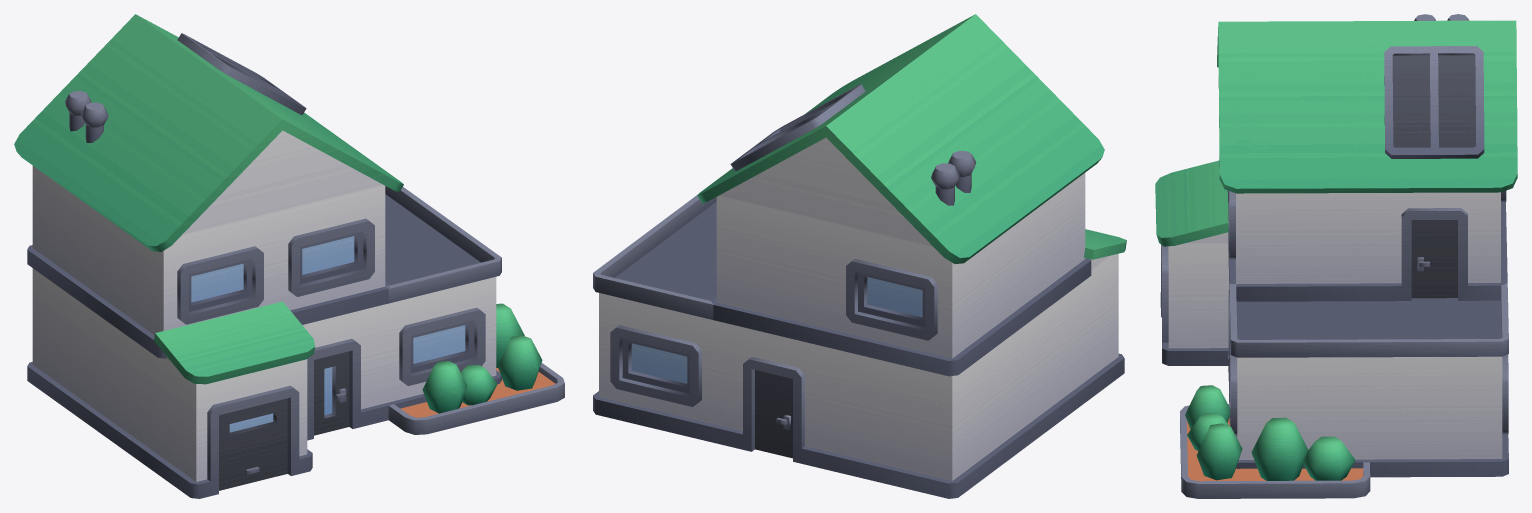
File: building-type-u.002_lev3.glb
The picture shows the model from 3 angles, left to right: view 1: azimuth 30°, elevation 25°; view 2: azimuth 150°, elevation 25°; view 3: azimuth 270°, elevation 25°; orthographic projection. The views are drawn at different scales.
Parts seen in each view (by area): view 1: building-type-u.002_lev3; view 2: building-type-u.002_lev3; view 3: building-type-u.002_lev3.
Boxes of the visible parts, x1,y1,x2,y2 form: building-type-u.002_lev3: (14, 14, 564, 498); building-type-u.002_lev3: (593, 14, 1126, 498); building-type-u.002_lev3: (1155, 14, 1517, 498).
Bounding box in the file's own units: 5.75 × 4.55 × 4.38.
1 material, 1 textured.
